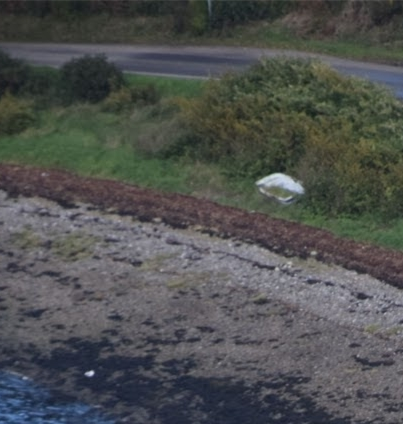cuboid: (254, 167, 314, 212)
white_in_green: (70, 351, 115, 389)
